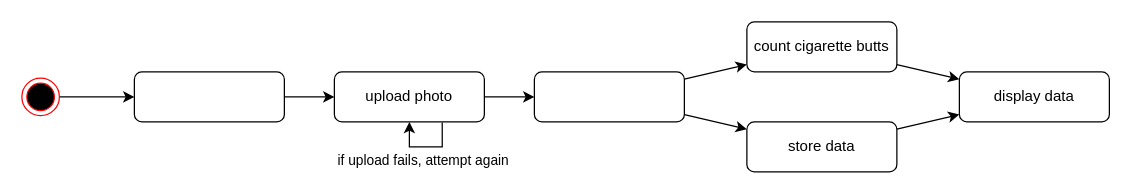
This 1131x194 diagram has some shape labels left out. Each missing label, with the centre of its shape:
process image: the point at 608,96
take photo: the point at 208,96
